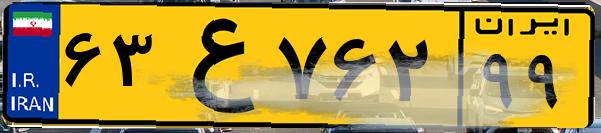2: (385, 28, 445, 110)
3: (110, 28, 158, 98)
6: (330, 28, 385, 110), (57, 26, 110, 100)
7: (270, 28, 330, 110)
9: (475, 38, 525, 113), (525, 38, 570, 115)
ع: (158, 12, 270, 120)
